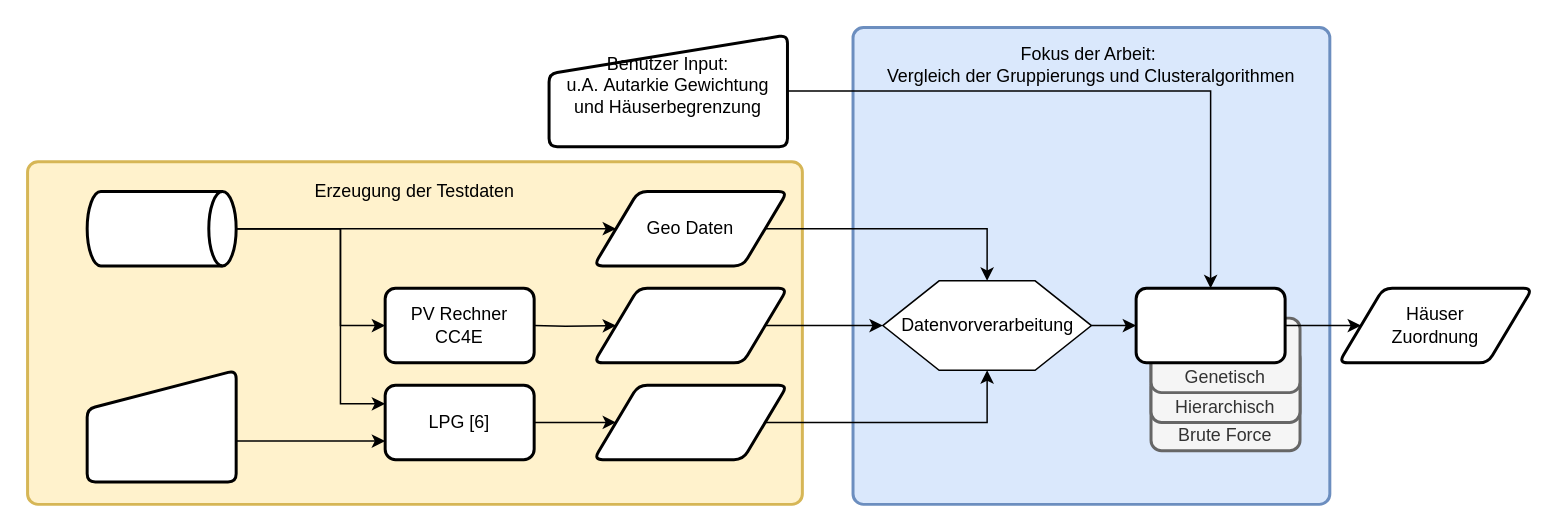
Image size: 1559x530. Some labels were removed from this diagram. Here are the shapes that lost their labels. From the top down, the centre of each, then its label:
At (161,228): "Hamburg Datensatz".
At (690,325): "Häuser Strom Generation".
At (1210,325): "Vergleich Gruppierungs-algorithmen".
At (161,425): "Annahmen über Häuser und Bevölkerung".
At (690,421): "Häuser Strom Verbrauch".
